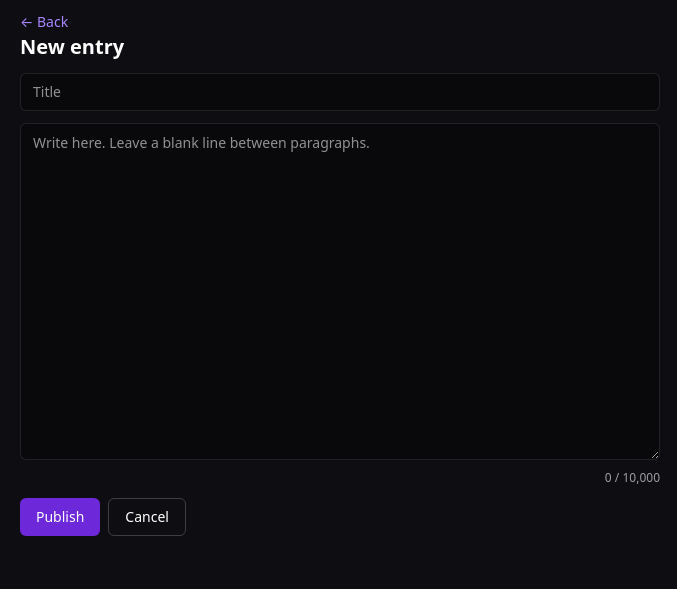
Test case: BlogEditorPage: a new entry › asks for a title and some text before sending anything
Click the button "Publish".
click(60, 516)  # box [20,498,100,536]
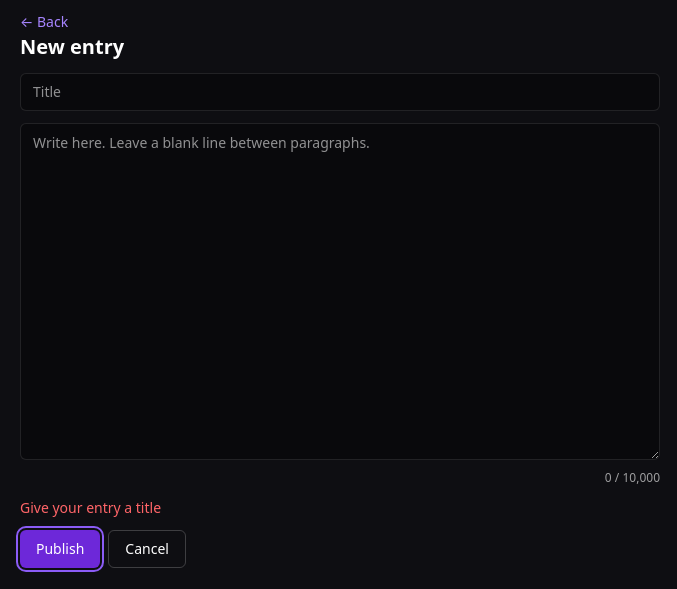
Expected: the message reads "Give your entry a title", [20,498,161,516]
Type "Hello" into the field named "Entry title".
click(340, 92); type("Hello")  # box [20,73,660,111]
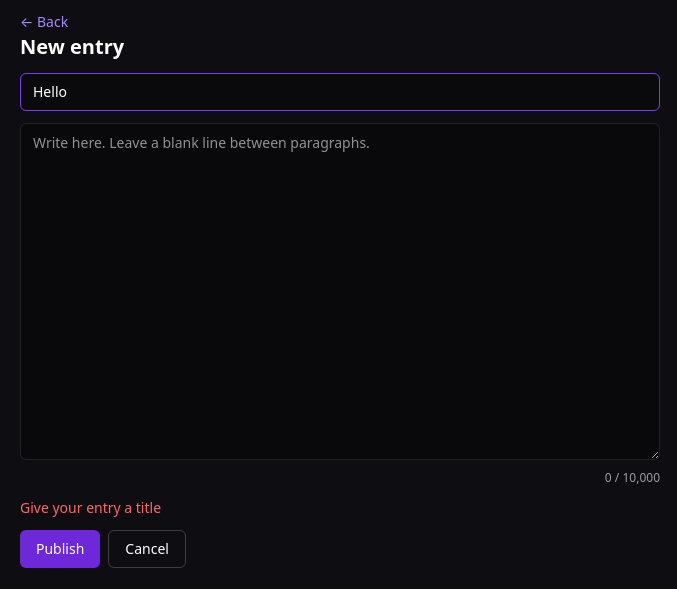
Click the button "Publish".
click(60, 548)  # box [20,530,100,568]
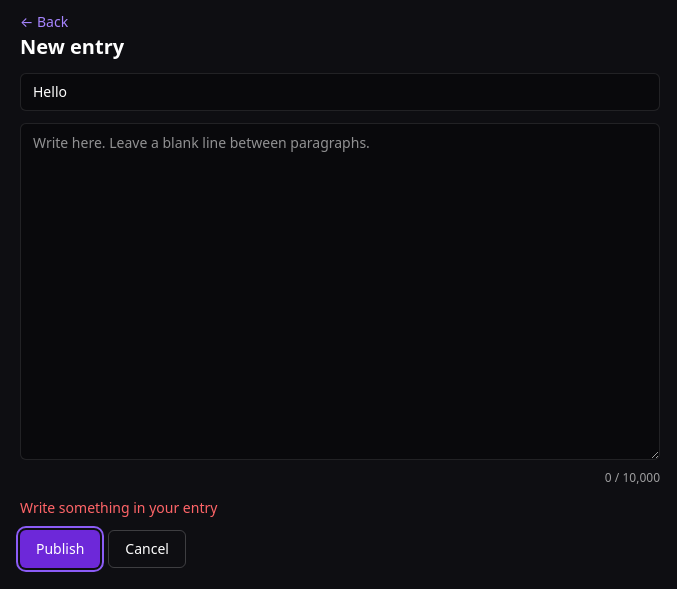
Expected: the message reads "Write something in your entry", [20,498,217,516]
